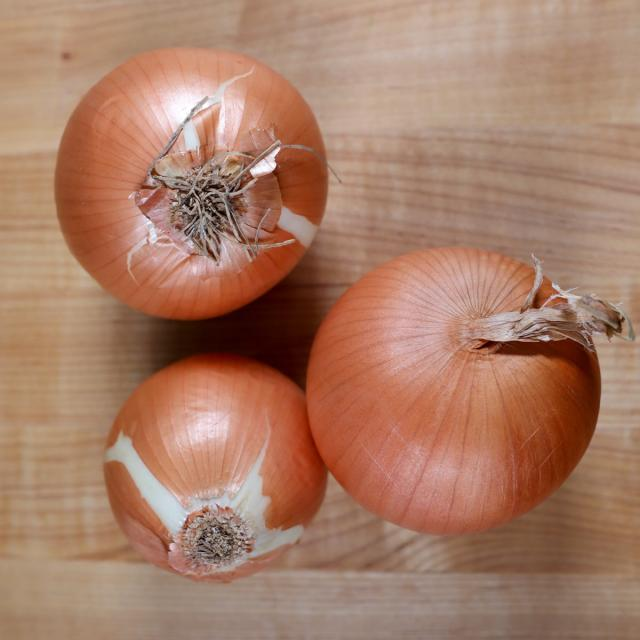onion: (308, 246, 601, 535), (55, 48, 329, 321), (105, 351, 317, 583)
